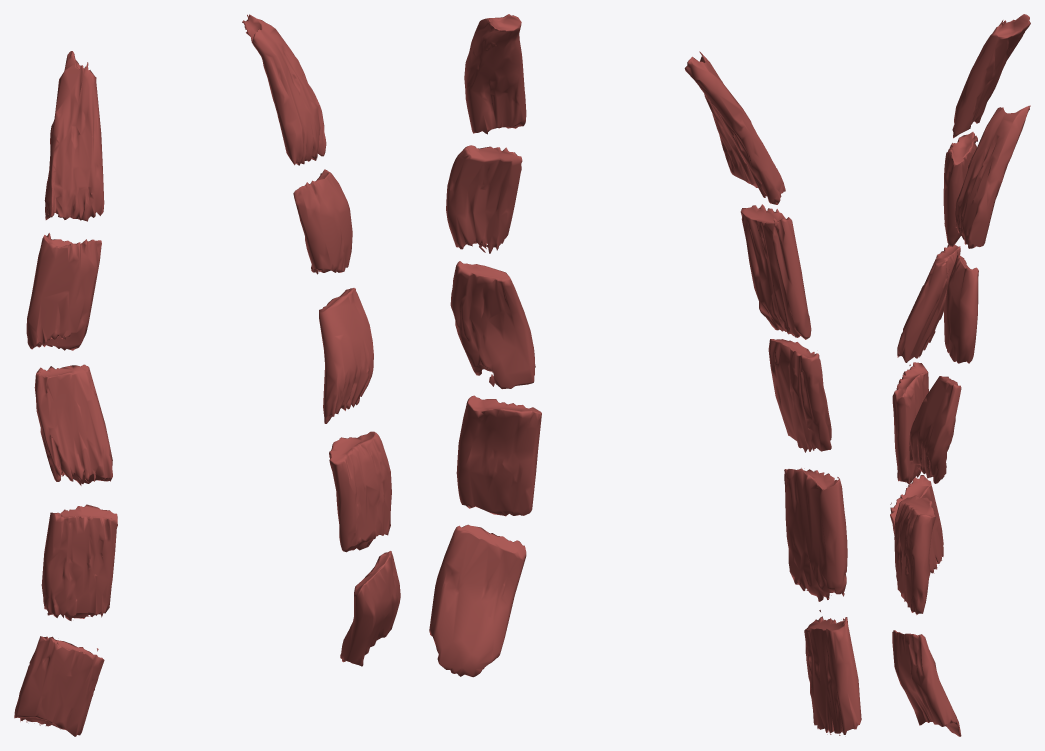
The model's file is FMA71444.glb.
3 views of the same model, side by side, from view 1: azimuth 30°, elevation 25°; view 2: azimuth 150°, elevation 25°; view 3: azimuth 270°, elevation 25° (orthographic). The views are drawn at different scales.
Visible parts, largest first — view 1: FMA71444; view 2: FMA71444; view 3: FMA71444.
Boxes of the visible parts, box(x1,y1,x2,y2) form: FMA71444: box(14, 14, 400, 736); FMA71444: box(429, 14, 861, 735); FMA71444: box(890, 14, 1030, 736).
Bounding box in the file's own units: 0.0928 × 0.1488 × 0.0312.
